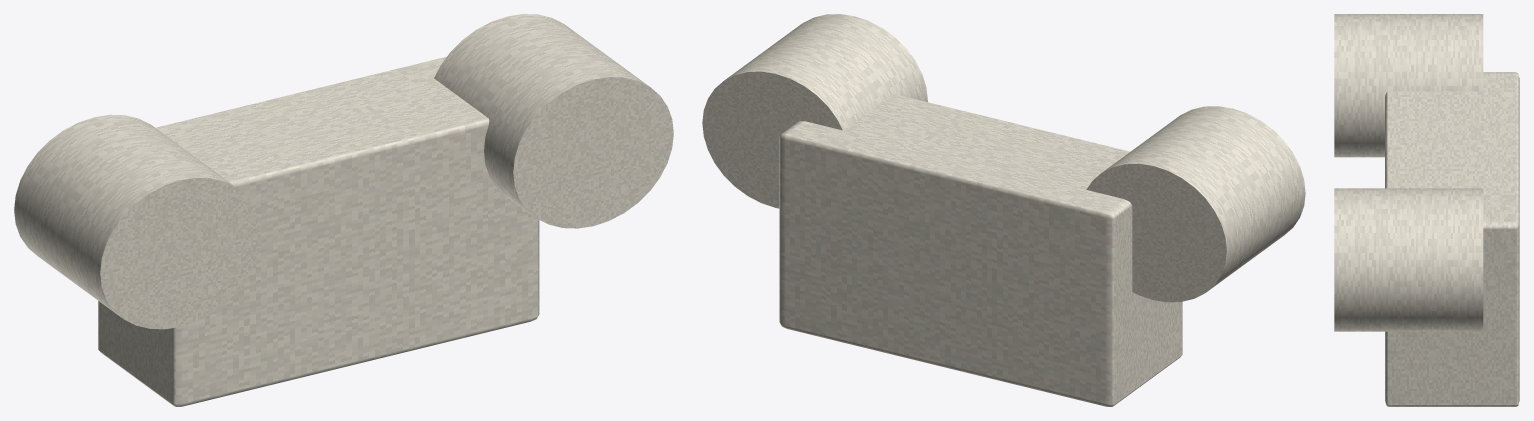
Rendered from emergency-light.glb.
The picture shows the model from 3 angles, left to right: view 1: azimuth 30°, elevation 25°; view 2: azimuth 150°, elevation 25°; view 3: azimuth 270°, elevation 25°; orthographic projection. The views are drawn at different scales.
Visible parts, largest first — view 1: battery, beam (×2); view 2: battery, beam (×2); view 3: beam (×2), battery.
Boxes of the visible parts, bbox=[...] form: battery: bbox=[98, 56, 539, 406]; beam (×2): bbox=[14, 14, 673, 329]; battery: bbox=[779, 94, 1182, 406]; beam (×2): bbox=[702, 14, 1305, 302]; beam (×2): bbox=[1334, 14, 1483, 331]; battery: bbox=[1385, 72, 1519, 406].
Size of the model in its own units: 0.36 by 0.1544 by 0.1164.
1 material, 1 textured.
